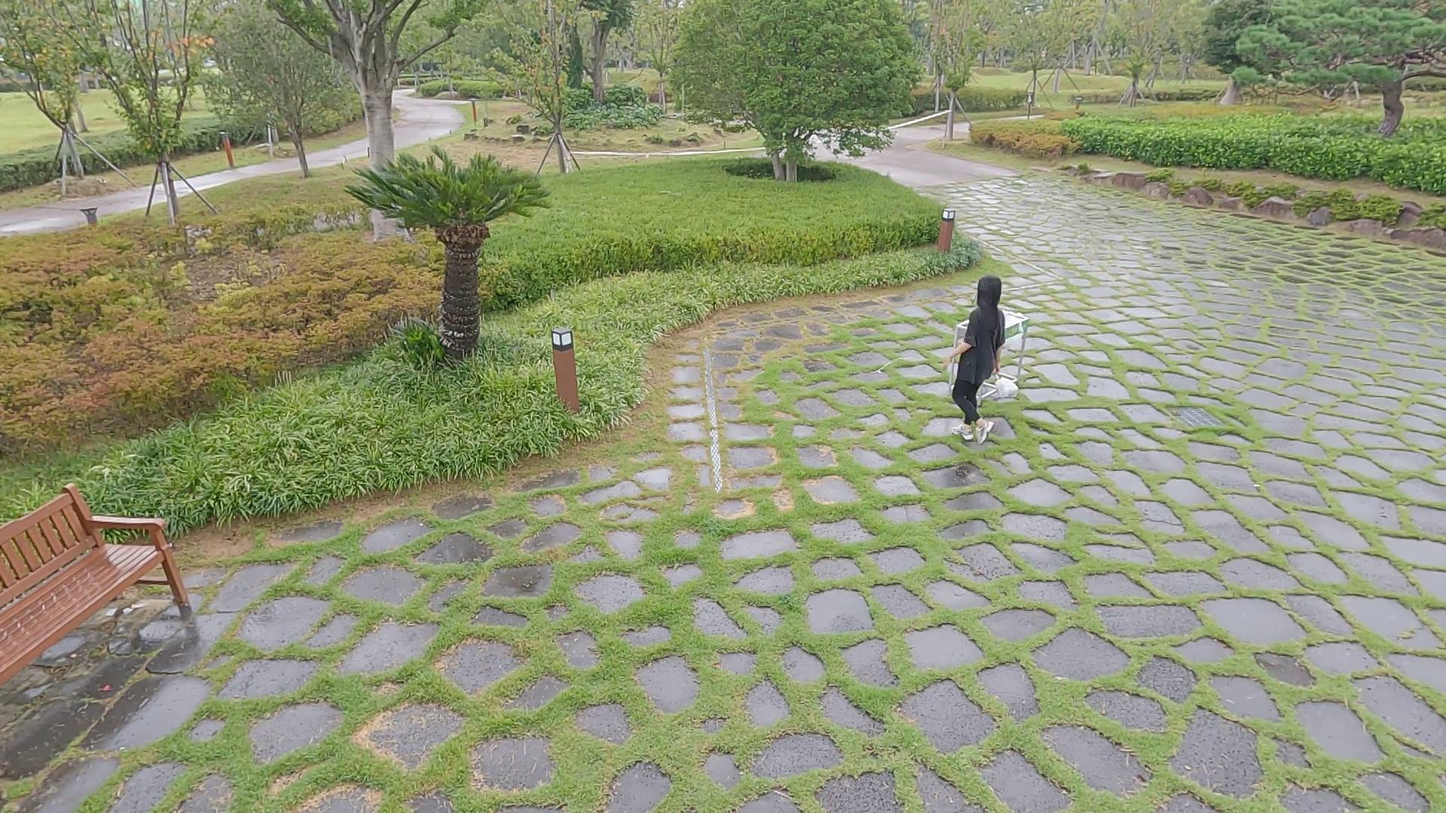person: (950, 275, 1011, 446)
trash: (994, 370, 1019, 402)
